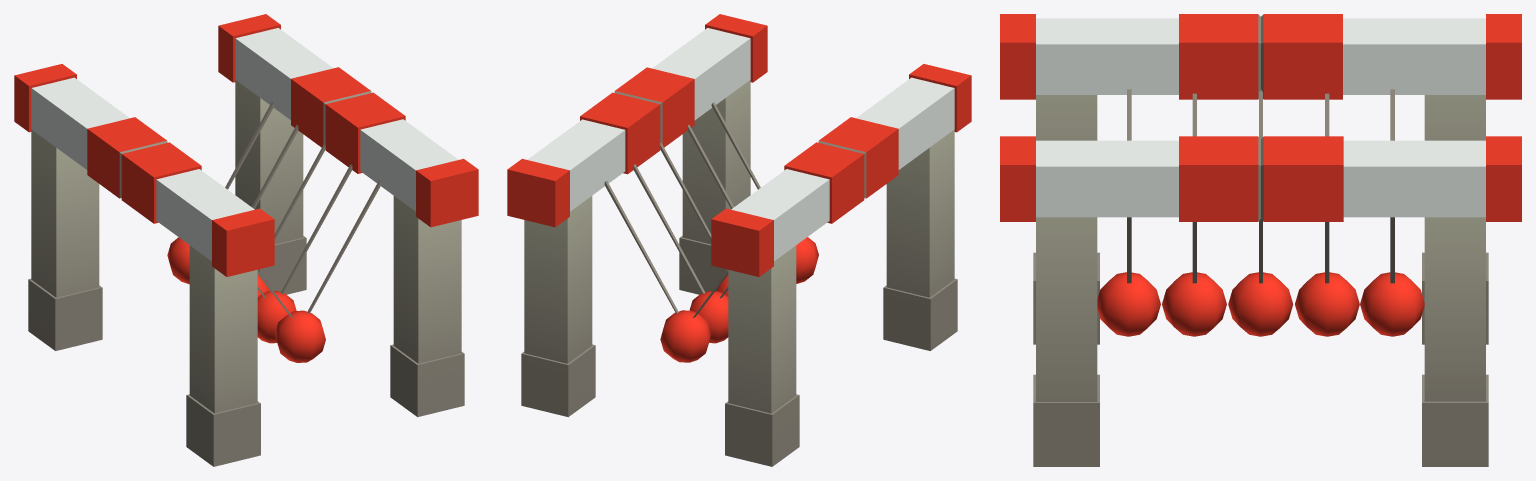
The model's file is island9.defense2.fbx.
3 views of the same model, side by side, from view 1: azimuth 30°, elevation 25°; view 2: azimuth 150°, elevation 25°; view 3: azimuth 270°, elevation 25° (orthographic). The views are drawn at different scales.
Parts seen in each view (by area): view 1: island9-defense2, island9-defense2.01, island9-defense2.02, island9-defense2.05, island9-defense2.03; view 2: island9-defense2, island9-defense2.05, island9-defense2.04, island9-defense2.01, island9-defense2.03; view 3: island9-defense2, island9-defense2.05, island9-defense2.01, island9-defense2.02, island9-defense2.04, island9-defense2.03.
Boxes of the visible parts, <box> form: island9-defense2: <box>14,14,478,466</box>; island9-defense2.01: <box>257,180,381,362</box>; island9-defense2.02: <box>257,164,352,343</box>; island9-defense2.05: <box>167,102,274,284</box>; island9-defense2.03: <box>257,142,325,296</box>; island9-defense2: <box>507,14,971,466</box>; island9-defense2.05: <box>604,180,728,362</box>; island9-defense2.04: <box>633,164,728,343</box>; island9-defense2.01: <box>711,102,818,283</box>; island9-defense2.03: <box>660,142,728,296</box>; island9-defense2: <box>1000,14,1521,466</box>; island9-defense2.05: <box>1360,89,1424,336</box>; island9-defense2.01: <box>1097,89,1160,336</box>; island9-defense2.02: <box>1162,93,1226,336</box>; island9-defense2.04: <box>1295,93,1359,336</box>; island9-defense2.03: <box>1228,90,1293,336</box>.
Bounding box in the file's own units: 3.11 × 2.9 × 4.54.
Materials: 1 (1 with a texture image).
